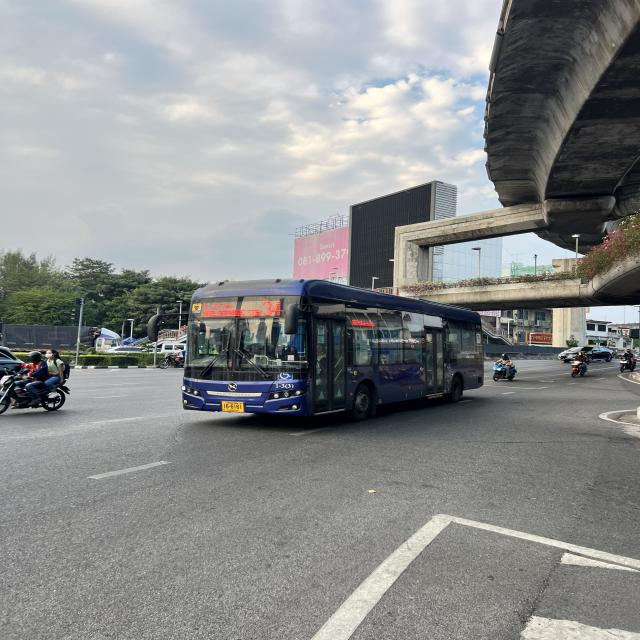Bus Line Number: (260, 297, 284, 317)
Bus Side Number: (274, 381, 296, 390)
Destination Sign: (200, 300, 260, 318)
TSB-Bus: (181, 281, 481, 422)
